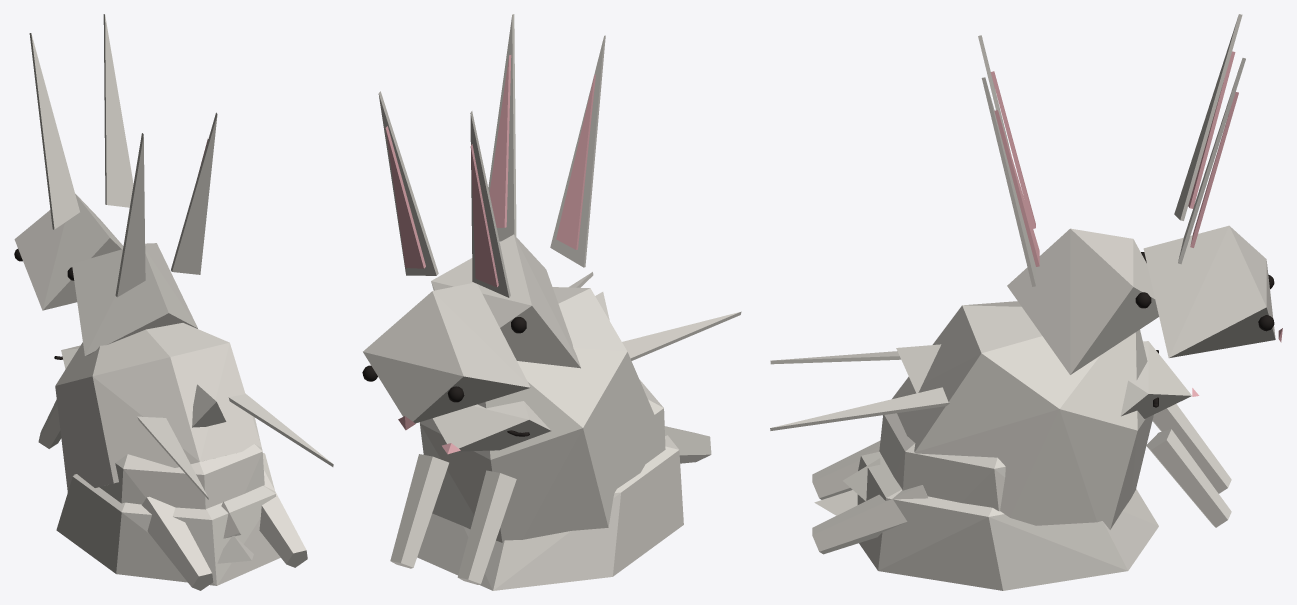
File: pet_rabbit.glb
3 renders of one model, left to right at view 1: azimuth 30°, elevation 25°; view 2: azimuth 150°, elevation 25°; view 3: azimuth 270°, elevation 25°, orthographic. The views are drawn at different scales.
Parts seen in each view (by area): view 1: body, head.001, body.002, head, body.001, leg_br, head.002, leg_bl, leg_fr; view 2: body, head, head.001, body.002, head.002, leg_fr, leg_fl, leg_br, body.001; view 3: body, body.002, head, head.001, body.001, head.002, leg_bl, leg_fl, leg_fr, leg_br.
Boxes of the visible parts, left/top/right/bottom form: body: left=55, top=323, right=261, bottom=492; head.001: left=67, top=112, right=217, bottom=356; body.002: left=56, top=453, right=280, bottom=585; head: left=14, top=14, right=133, bottom=310; body.001: left=99, top=416, right=264, bottom=538; leg_br: left=142, top=496, right=213, bottom=590; head.002: left=54, top=345, right=333, bottom=499; leg_bl: left=259, top=470, right=307, bottom=567; leg_fr: left=38, top=400, right=61, bottom=448; body: left=420, top=287, right=662, bottom=542; head: left=362, top=91, right=530, bottom=430; head.001: left=431, top=14, right=605, bottom=368; body.002: left=417, top=435, right=683, bottom=590; head.002: left=433, top=272, right=741, bottom=454; leg_fr: left=457, top=470, right=516, bottom=584; leg_fl: left=390, top=454, right=448, bottom=568; leg_br: left=664, top=426, right=711, bottom=463; body.001: left=639, top=379, right=665, bottom=463; body: left=892, top=301, right=1153, bottom=529; body.002: left=814, top=447, right=1158, bottom=590; head: left=1143, top=14, right=1282, bottom=357; head.001: left=978, top=35, right=1158, bottom=374; body.001: left=843, top=413, right=1005, bottom=511; head.002: left=770, top=341, right=1199, bottom=430; leg_bl: left=812, top=485, right=927, bottom=554; leg_fl: left=1146, top=429, right=1231, bottom=527; leg_fr: left=1152, top=404, right=1231, bottom=493; leg_br: left=812, top=441, right=880, bottom=499.
Size of the model in its own units: 0.1882 by 0.4386 by 0.4055.
